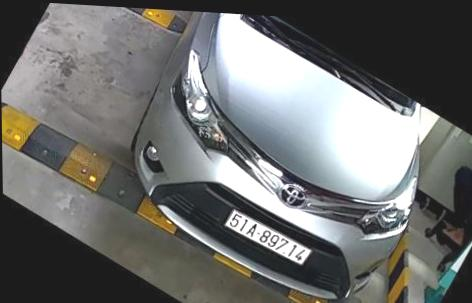License_Plate: (223, 202, 320, 270)
